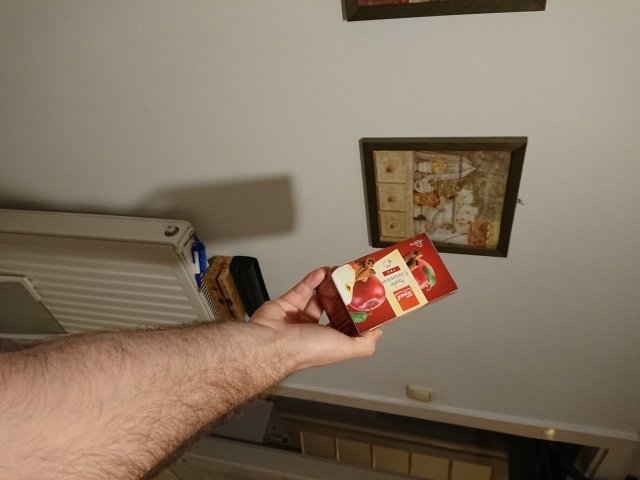Franck Apple Cinnamon Tea 60g: (310, 230, 462, 340)
